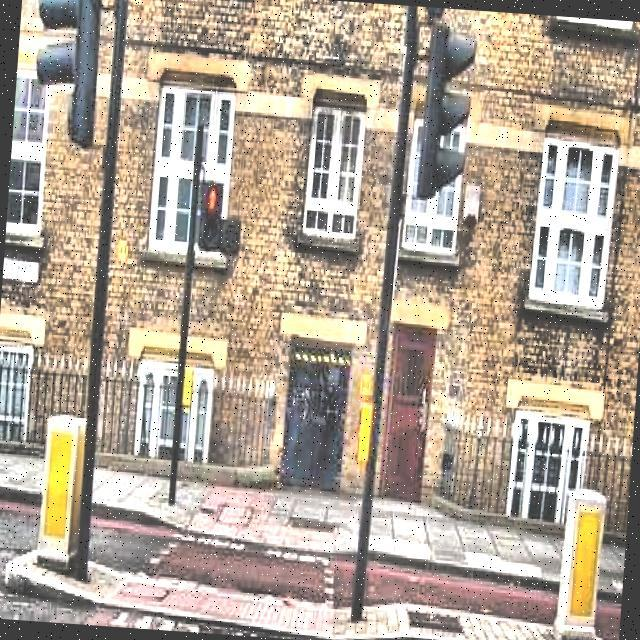red_light: (206, 184, 218, 210)
